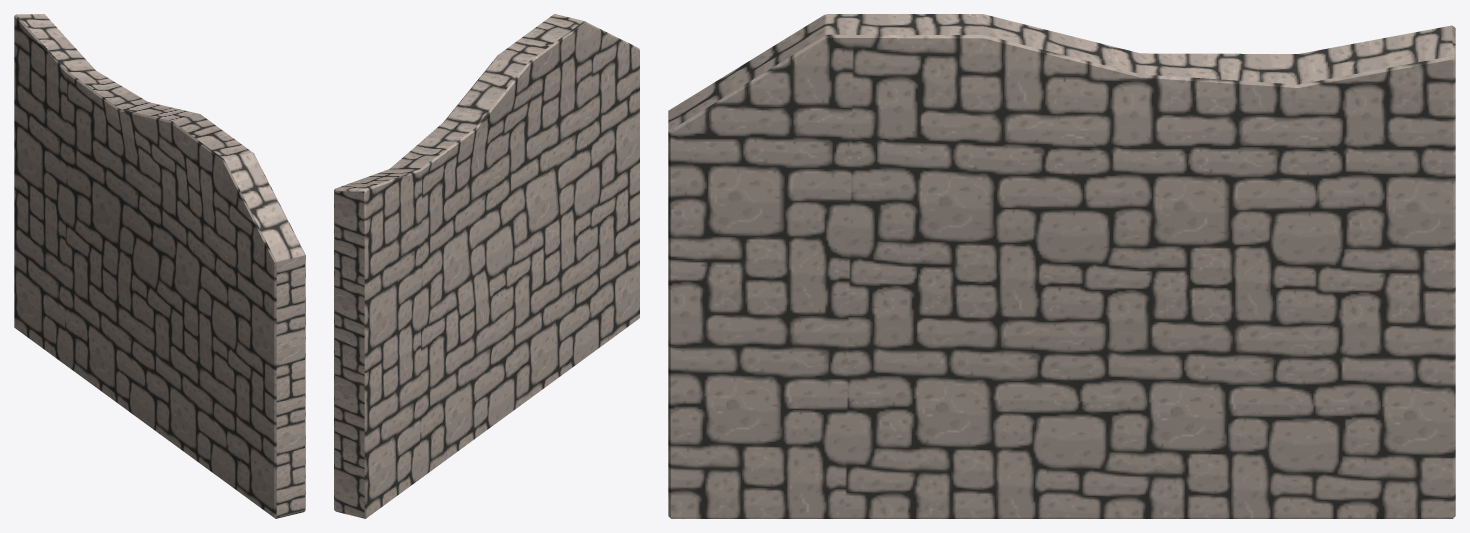
File: muro.fbx
The picture shows the model from 3 angles, left to right: view 1: azimuth 30°, elevation 25°; view 2: azimuth 150°, elevation 25°; view 3: azimuth 270°, elevation 25°; orthographic projection. The views are drawn at different scales.
Visible parts, largest first — view 1: pCube1; view 2: pCube1; view 3: pCube1.
Part boxes in pixels (bbox=[...]): pCube1: bbox=[14, 14, 305, 518]; pCube1: bbox=[334, 14, 639, 518]; pCube1: bbox=[668, 14, 1455, 518].
Bounding box in the file's own units: 10.26 × 88.42 × 130.
Materials: 1 (1 with a texture image).
